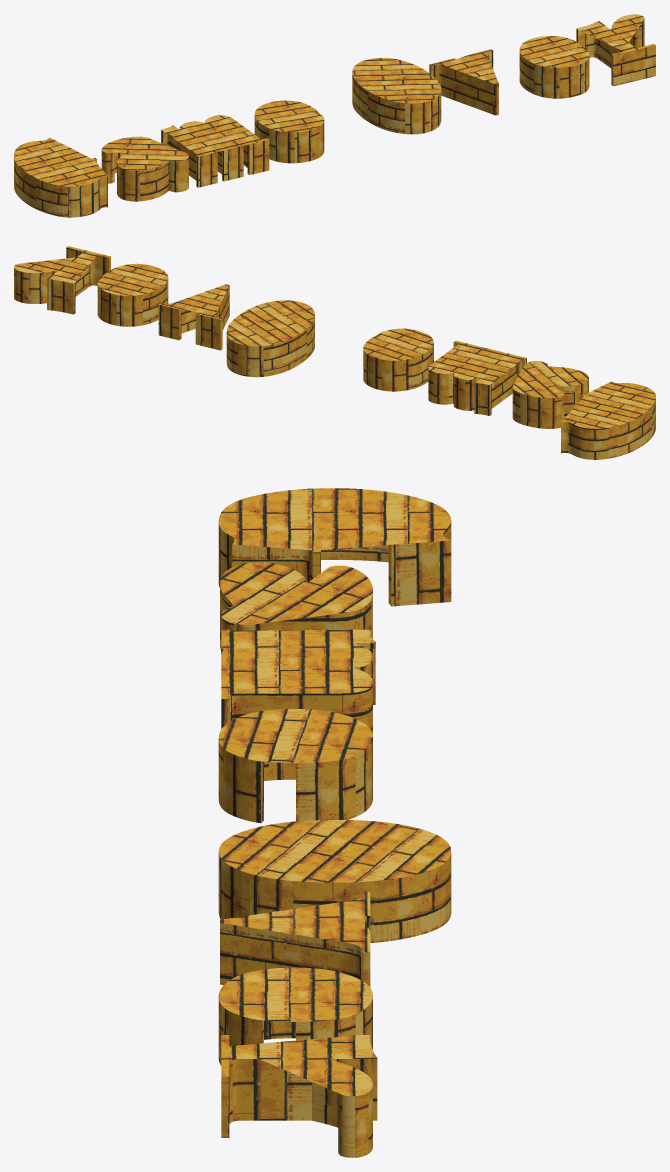
Rendered from GameOver.FBX.
3 views of the same model, one above another, from view 1: azimuth 30°, elevation 25°; view 2: azimuth 150°, elevation 25°; view 3: azimuth 270°, elevation 25° (orthographic). The views are drawn at different scales.
Parts seen in each view (by area): view 1: Text003; view 2: Text003; view 3: Text003.
Part boxes in pixels (x1,y1,x2,y2): Text003: (14, 14, 655, 217); Text003: (14, 246, 655, 459); Text003: (218, 488, 451, 1157).
Size of the model in its own units: 2.12 by 0.1 by 0.342.
Materials: 1 (1 with a texture image).
